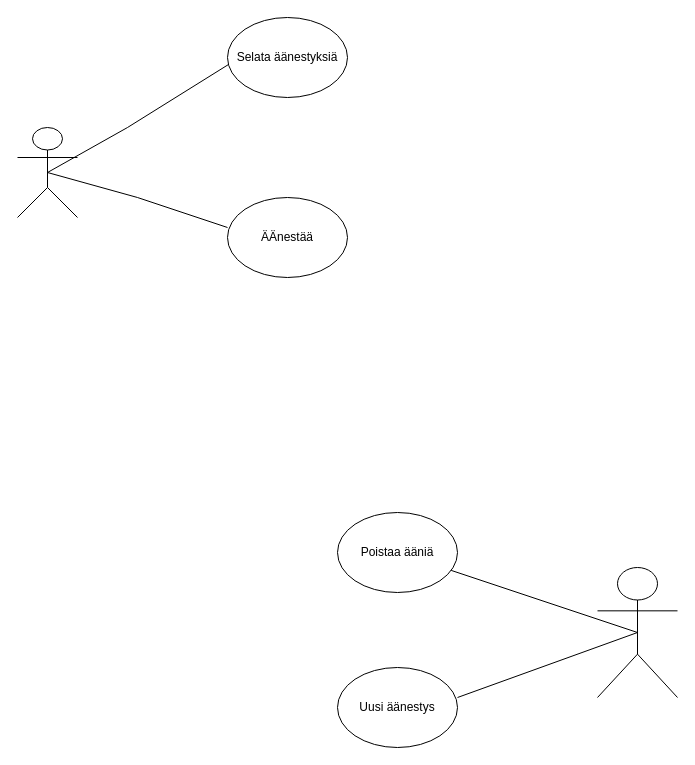
This 695x765 diagram has some shape labels left out. The shapes that lost their labels are listed below. From the top down, each one's centre as x and y in pixels, then its label:
At [47,172]: "Käytäjä".
At [637,632]: "Ylläpitäjä".
